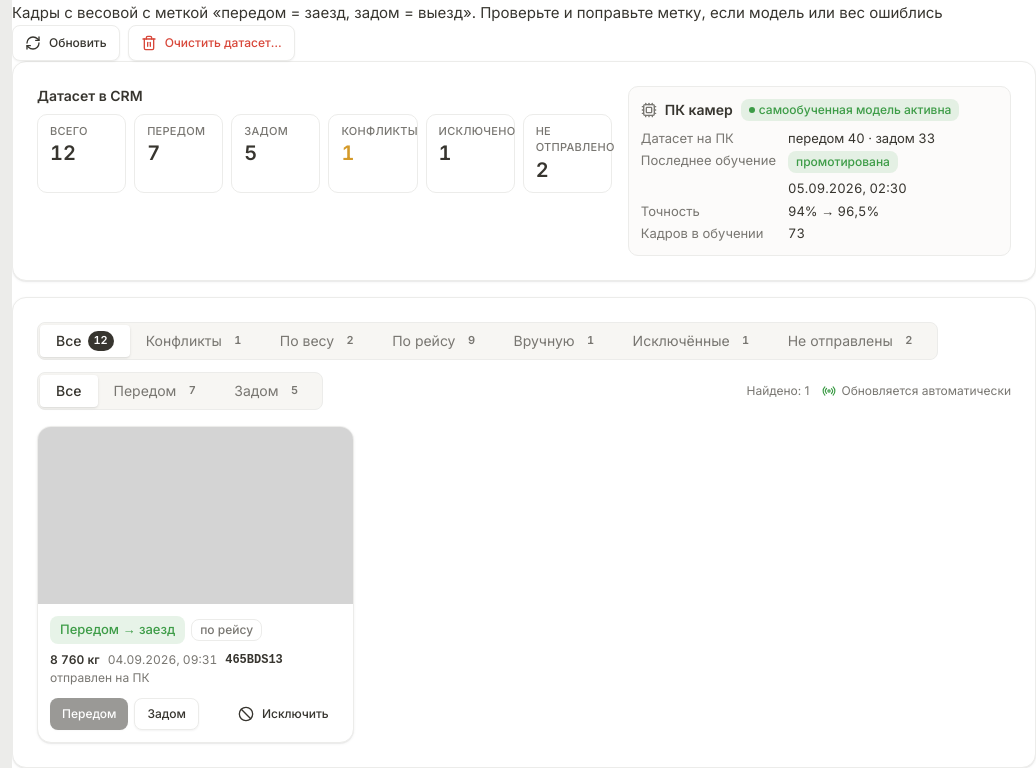
Test: OrientationDatasetPage › relabels a frame and swaps the card for the returned row
This screenshot has width=1036, height=768.
(page scrolled)
Expected: the button "Передом" is disabled, [50,698,128,730]
Click the button "Задом" at (167, 714), box [134,698,199,730]
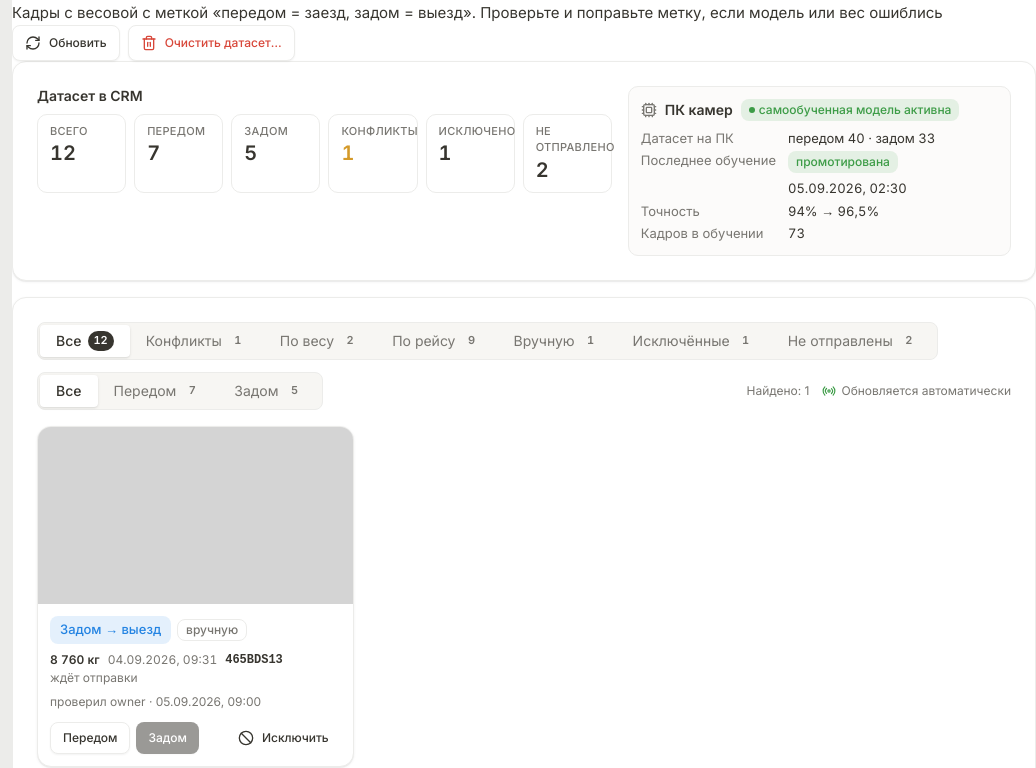
Now the text "Задом → выезд" is shown, box [50,616,171,644]
Now the text "вручную" is shown, box [177,619,247,641]
Now the text "проверил owner · 05.09.2026, 09:00" is shown, box [50,694,261,709]
